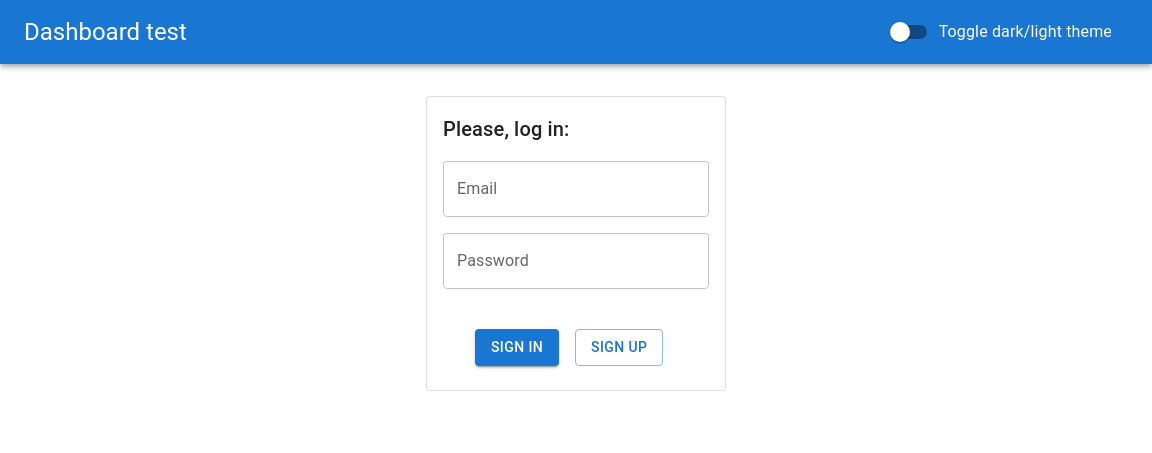
Login tests › should give error messages when signing in with empty credentials
Click the button with test id "sign-in-button" at (517, 348), box left=475, top=329, right=559, bottom=366
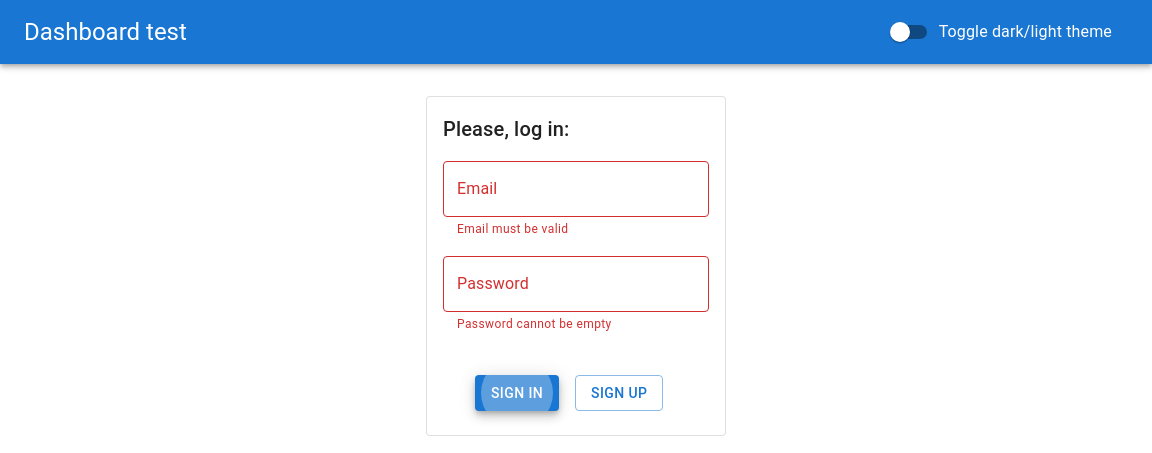
Result: the text "Email must be valid" is shown at left=457, top=222, right=568, bottom=236
Result: the text "Password cannot be empty" is shown at left=457, top=317, right=612, bottom=331
